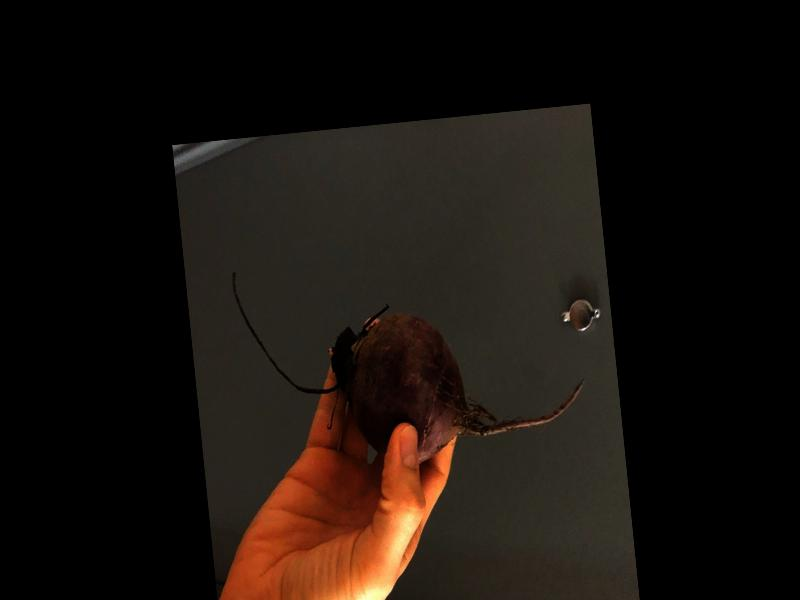Beet: (231, 236, 589, 479)
